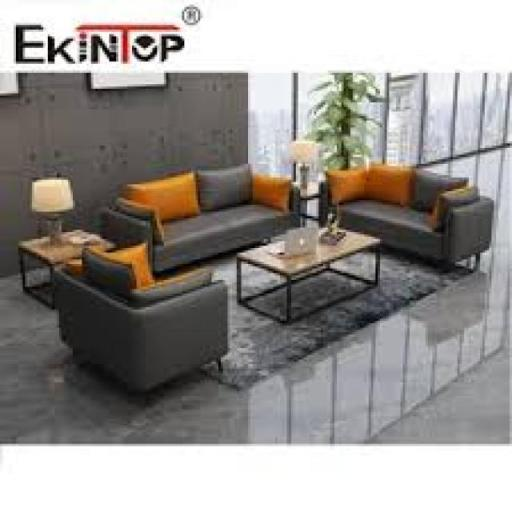sofa: (54, 239, 260, 439), (332, 156, 512, 284)
